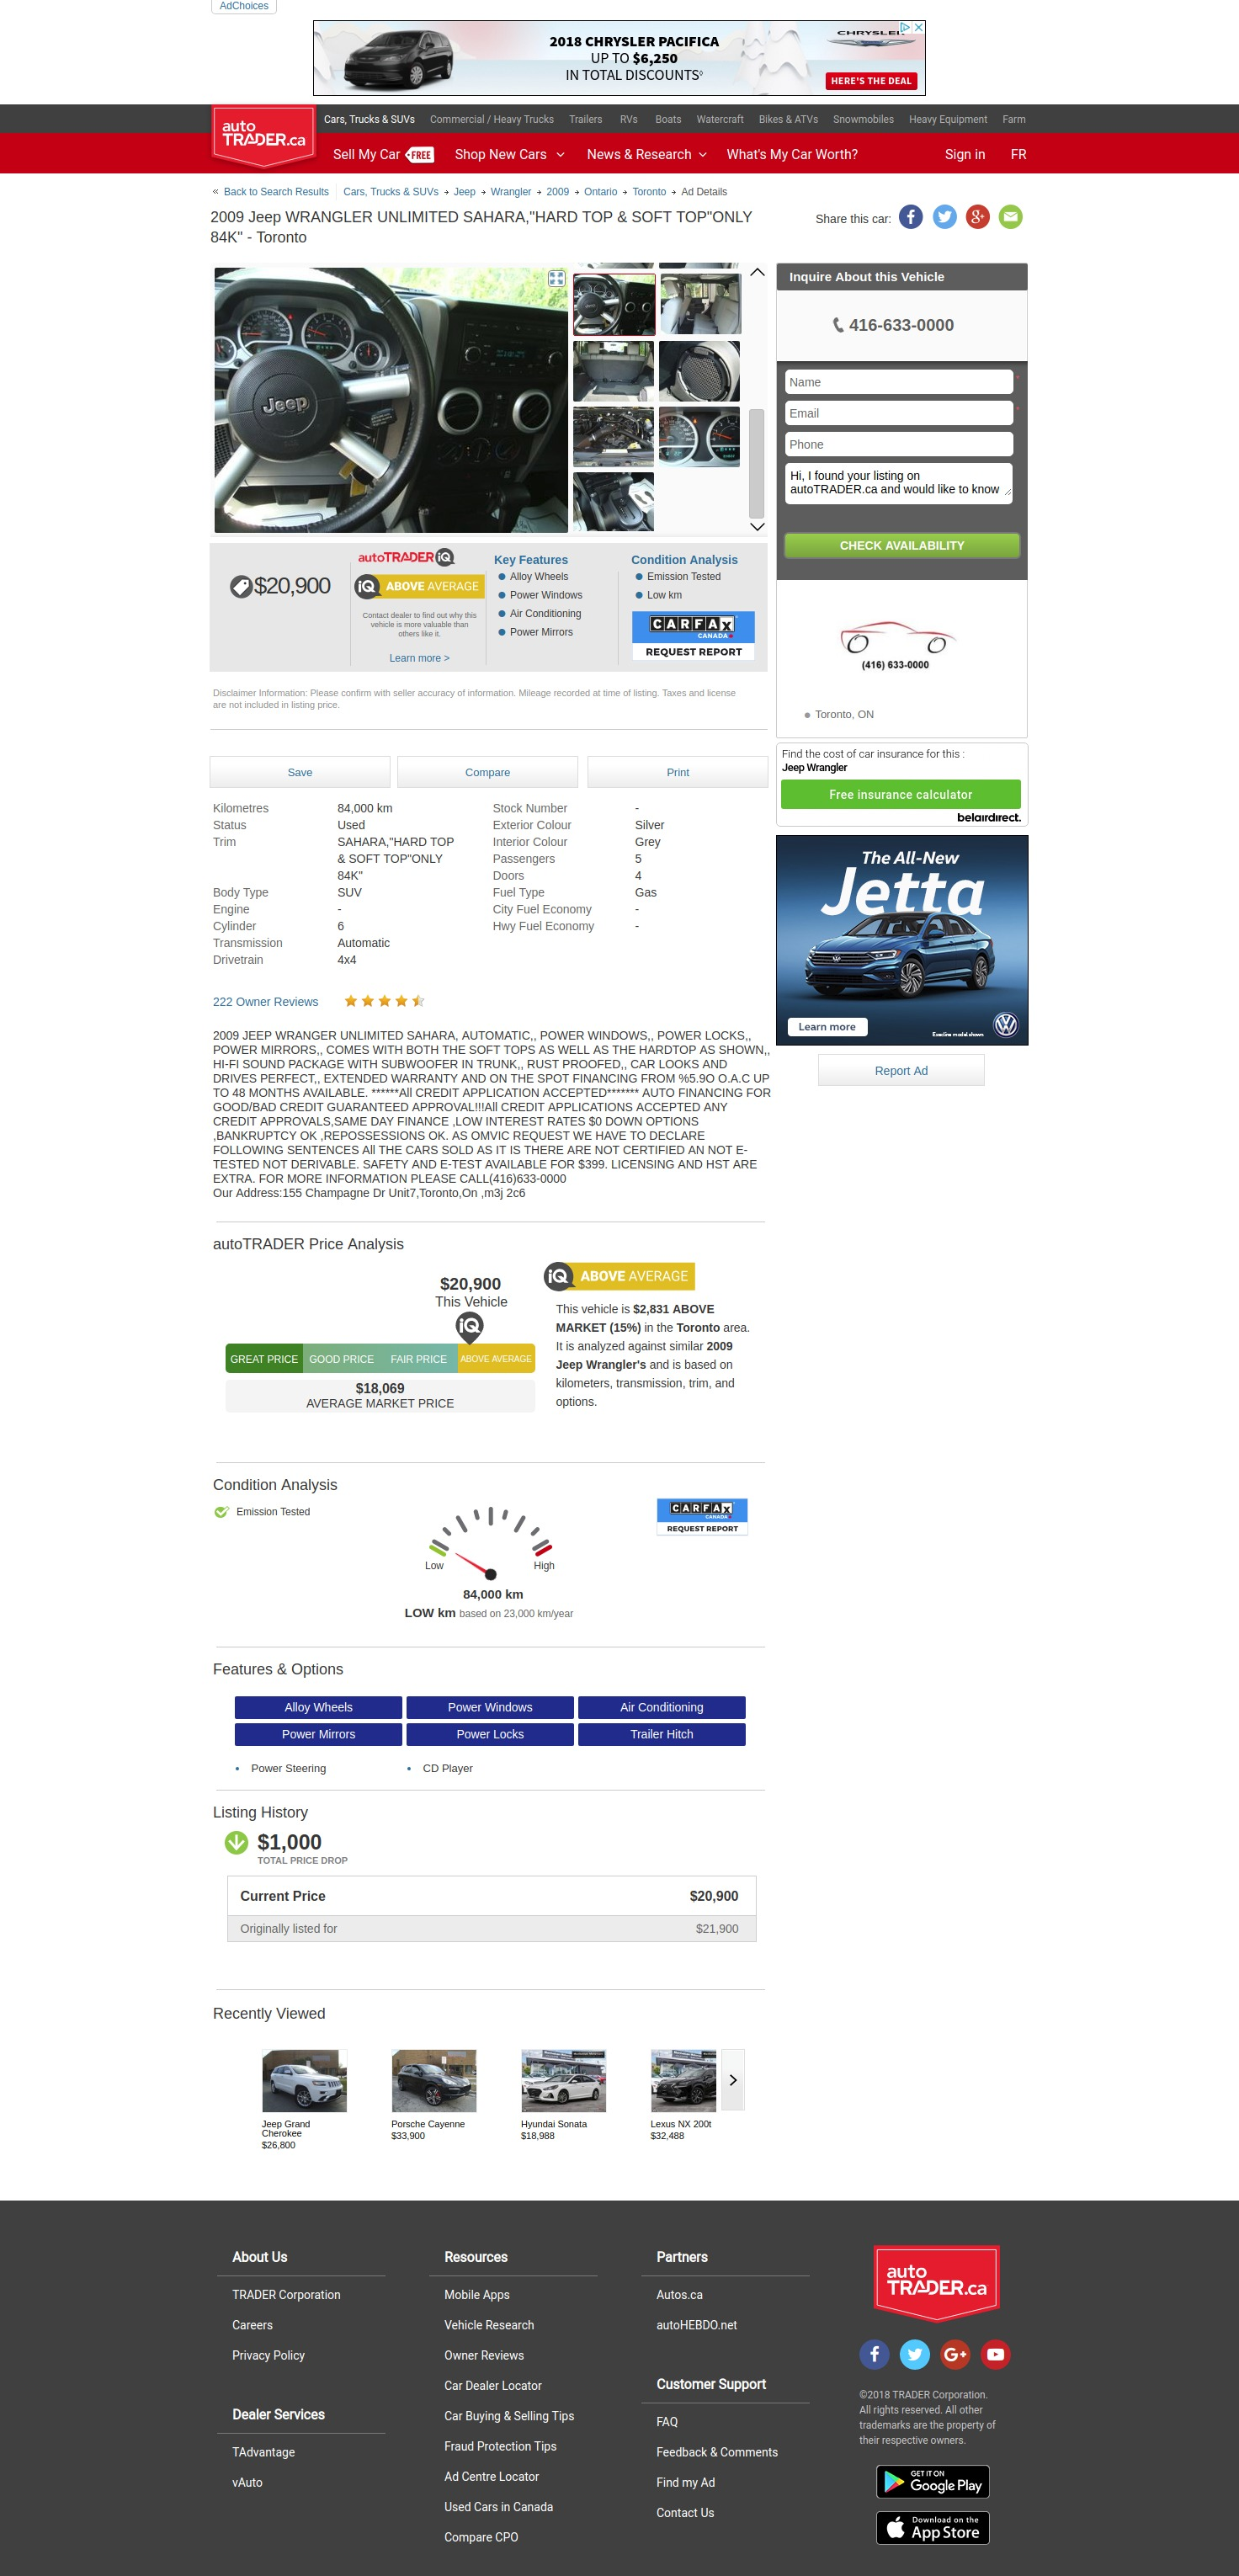car: (748, 519, 766, 536)
